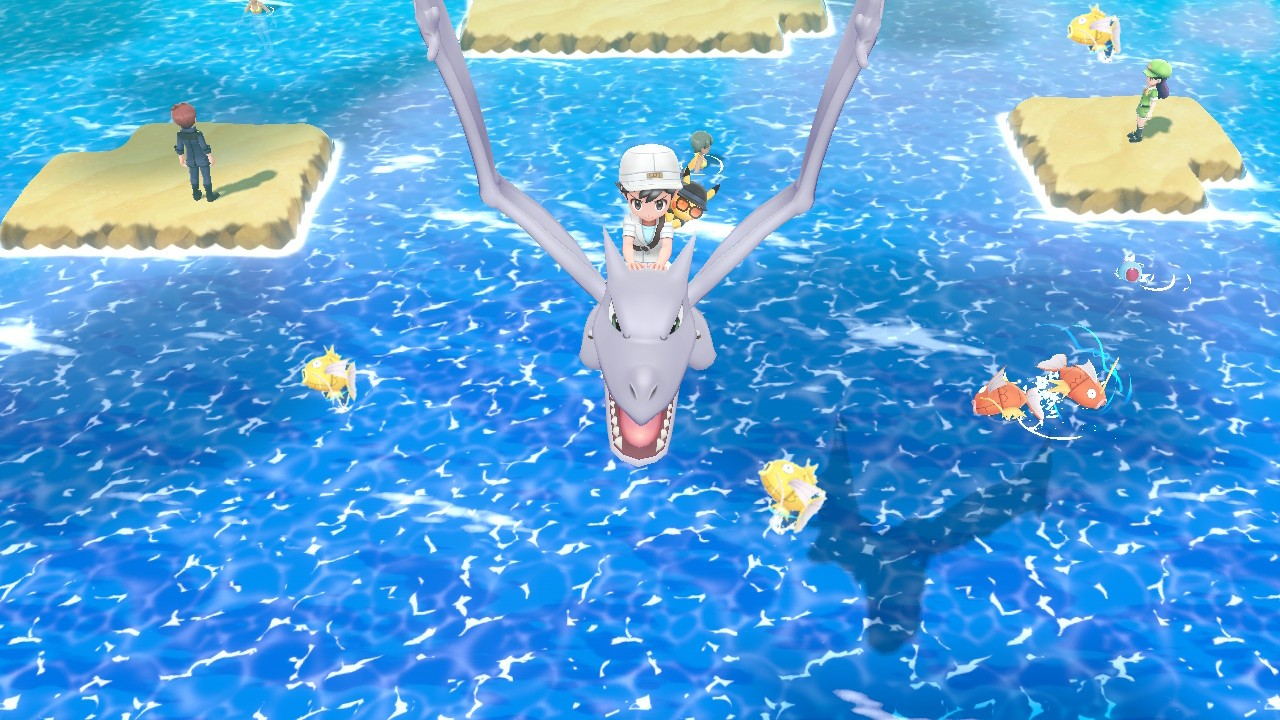Golden: (756, 457, 828, 530), (294, 345, 362, 404), (1064, 1, 1126, 58)
Red: (1039, 349, 1109, 413), (971, 367, 1042, 426)
